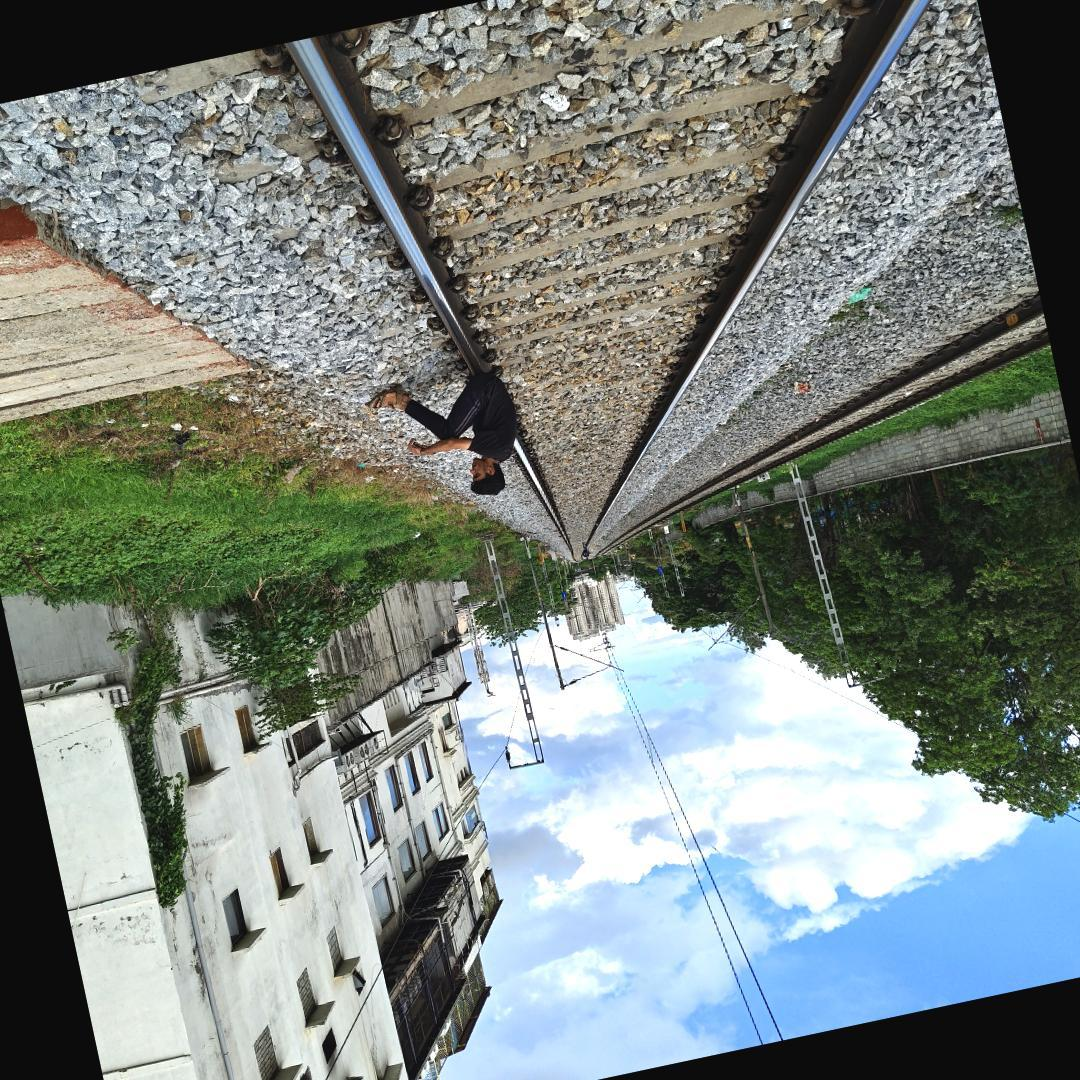sitting: (363, 343, 538, 521)
